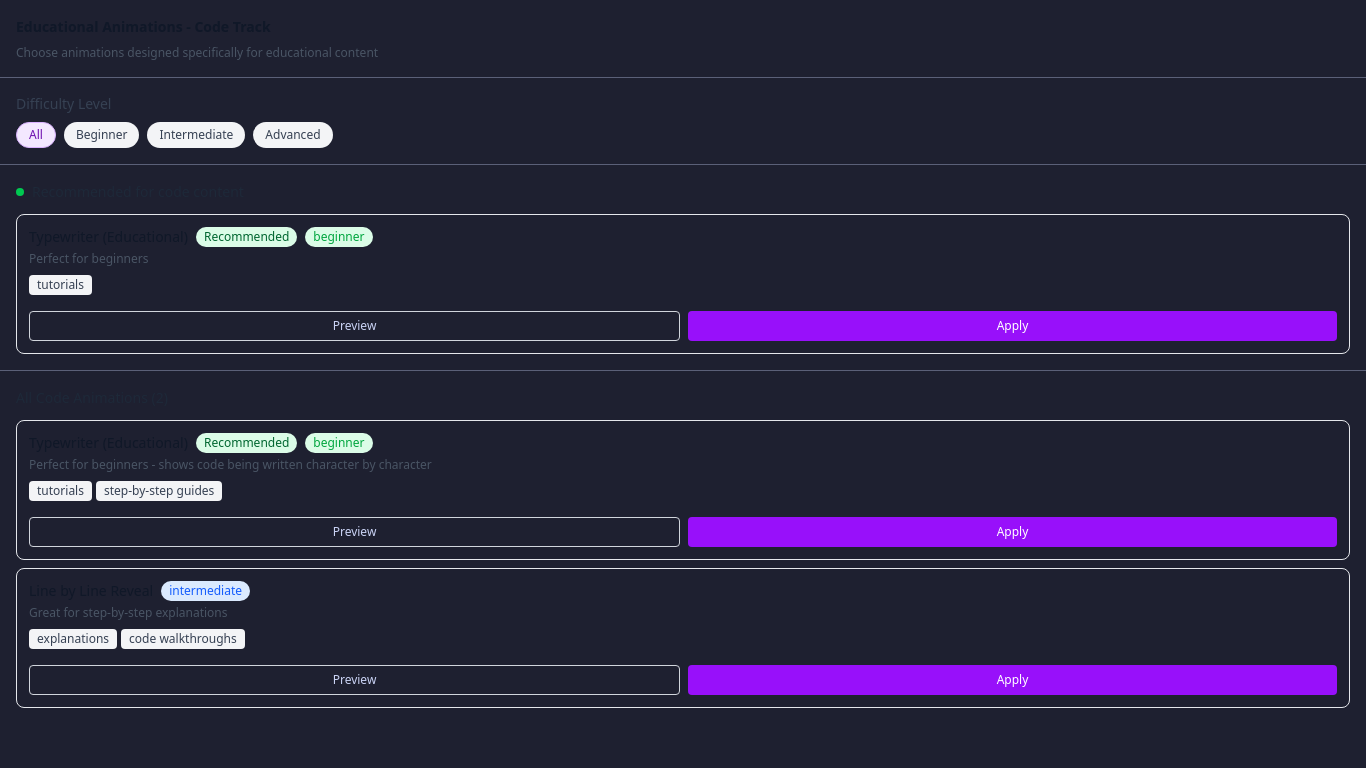
Scenario: EducationalAnimationSelector › should show preview when Preview button is clicked
Step 1. Click the button "Preview" below "Recommended for" → (354, 326), box [29, 311, 680, 341]
(page scrolled)
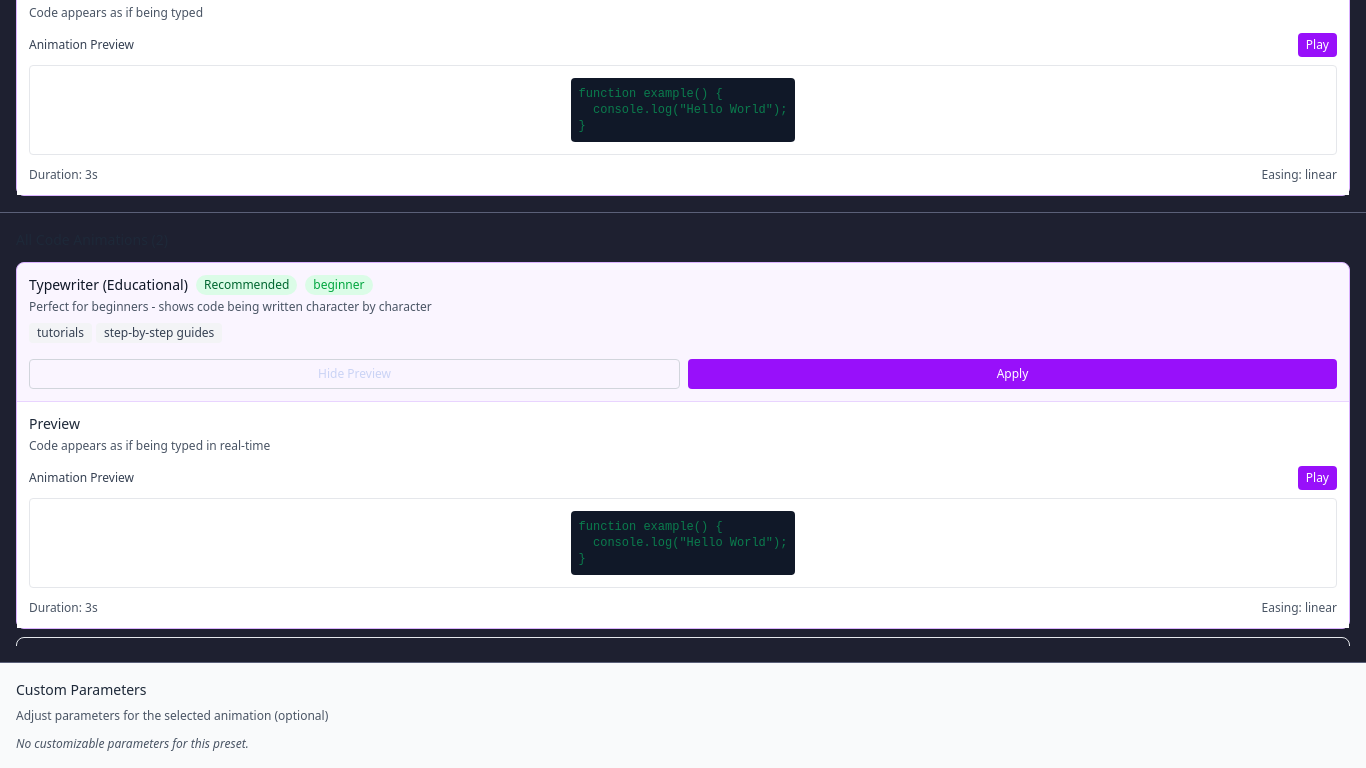
Expected: the text "Code appears as if being typed in real-time" is shown, [29, 437, 270, 454]
